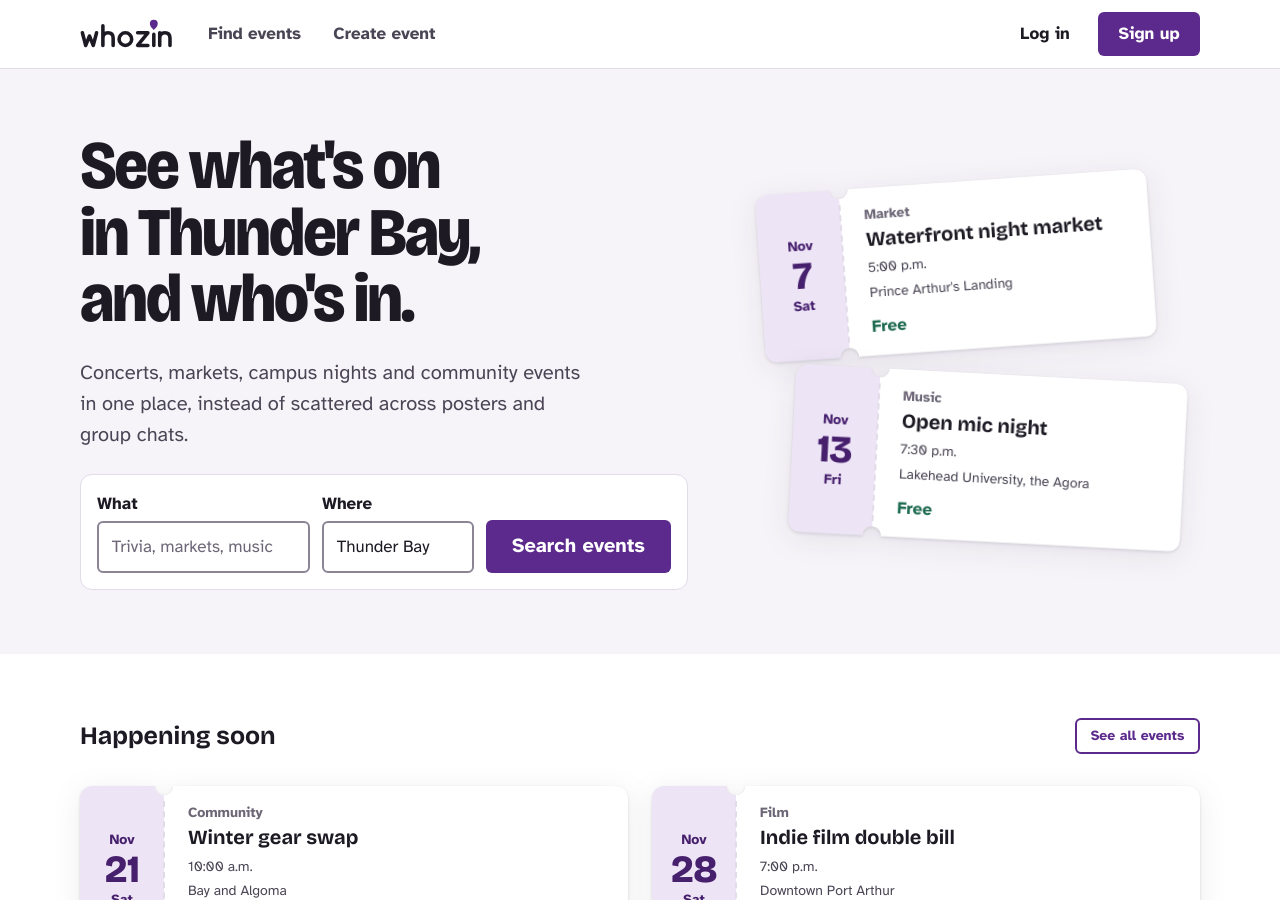
Scenario: navbar › moves between pages and marks the current link
The width and height of the screenshot is (1280, 900).
What coordinates should you click on to do the following:
click the link "Find events"
I would click on:
 (255, 33)
Its box is [208,23,301,44].
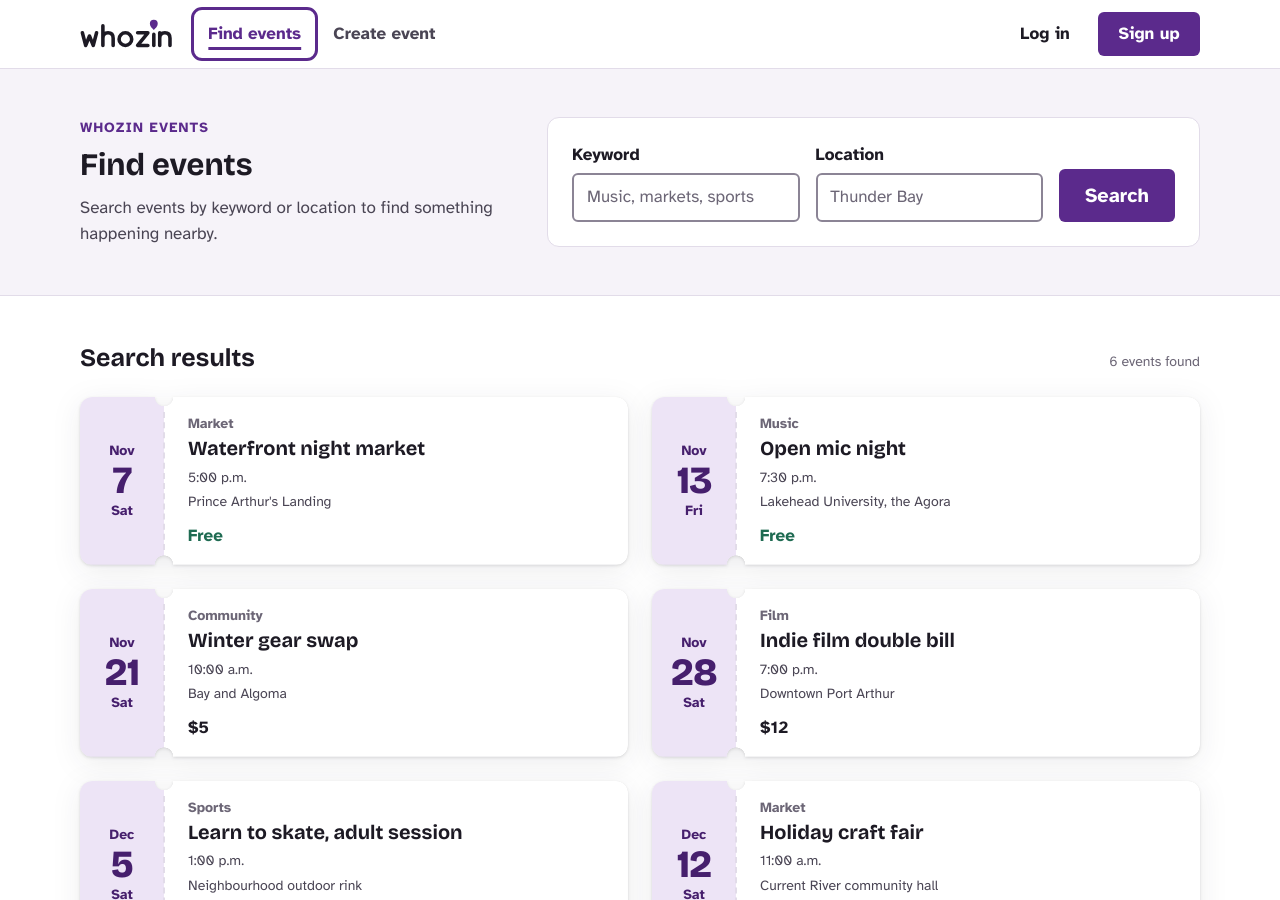
Check: the link "Find events" is marked as current, box [208,23,301,44]
What coordinates should you click on to do the following:
click the link "Sign up"
I would click on:
 (1149, 34)
Its box is [1098,12,1200,56].
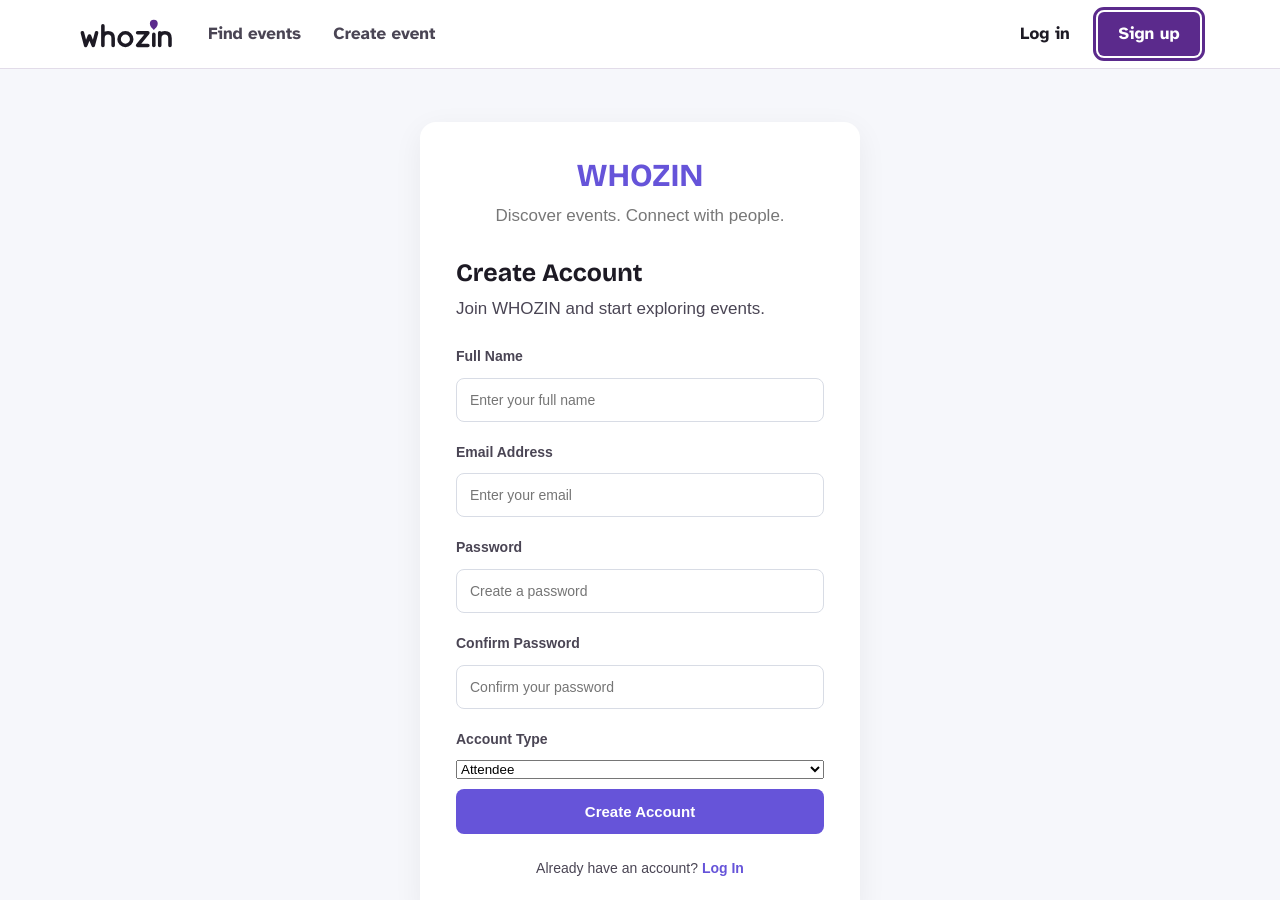
Check: the heading "Create Account" is shown, box [456,258,642,288]
What coordinates should you click on to do the following:
click the link named "Whozin home"
I would click on:
 (126, 34)
Its box is [80,11,172,57].
(page scrolled)
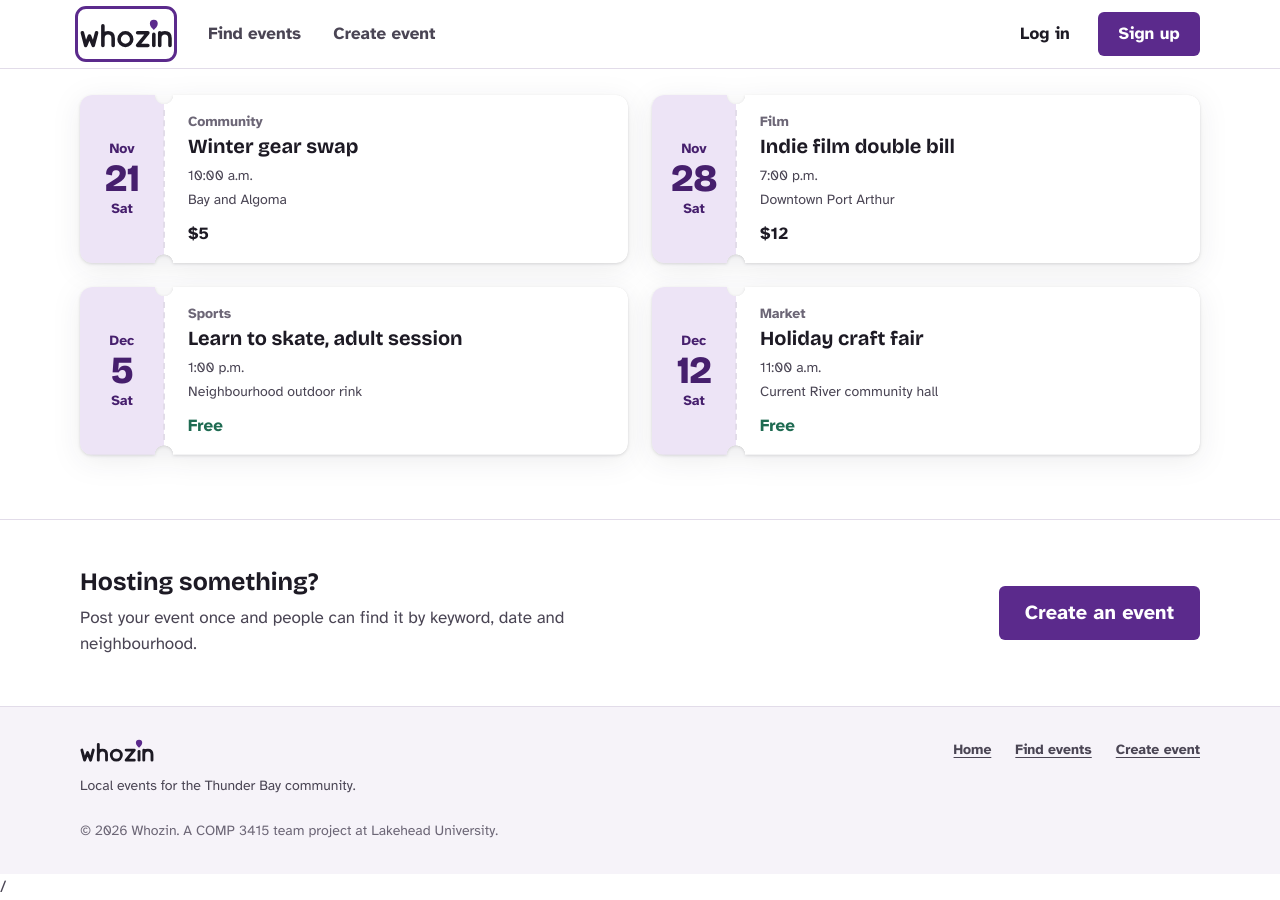
Check: the text with test id "location" reads "/", box [0,876,6,897]
